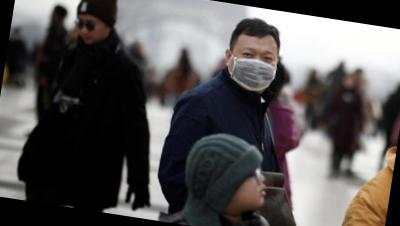with_mask: (226, 44, 282, 95)
without_mask: (236, 166, 271, 214), (72, 14, 108, 48)
